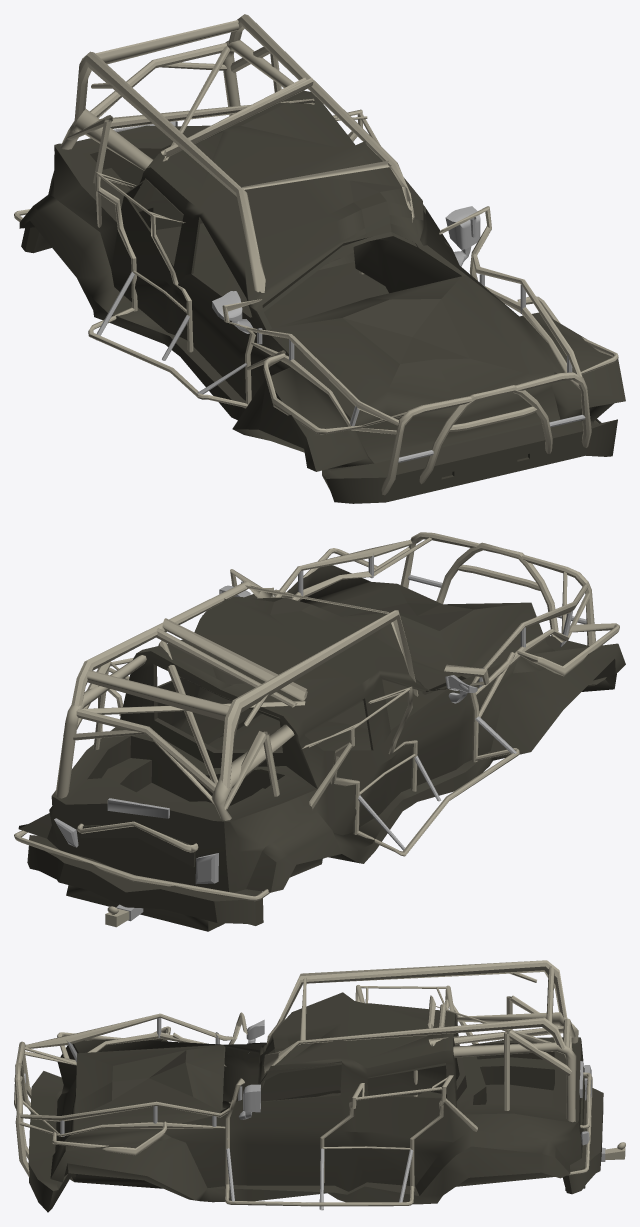
The model's file is Crushed Jeep.fbx.
3 renders of one model, top to bottom at view 1: azimuth 30°, elevation 25°; view 2: azimuth 150°, elevation 25°; view 3: azimuth 270°, elevation 25°, orthographic. The views are drawn at different scales.
Parts seen in each view (by area): view 1: Crushed_Jeep; view 2: Crushed_Jeep; view 3: Crushed_Jeep.
Boxes of the visible parts, bbox=[...] form: Crushed_Jeep: bbox=[14, 14, 625, 503]; Crushed_Jeep: bbox=[14, 532, 625, 931]; Crushed_Jeep: bbox=[14, 960, 625, 1212].
Size of the model in its own units: 5.18 by 3.4 by 10.76.
